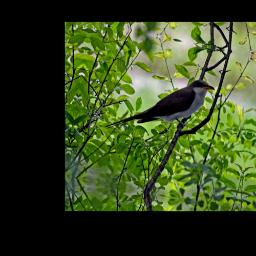Cuckoo: (104, 62, 217, 151)
